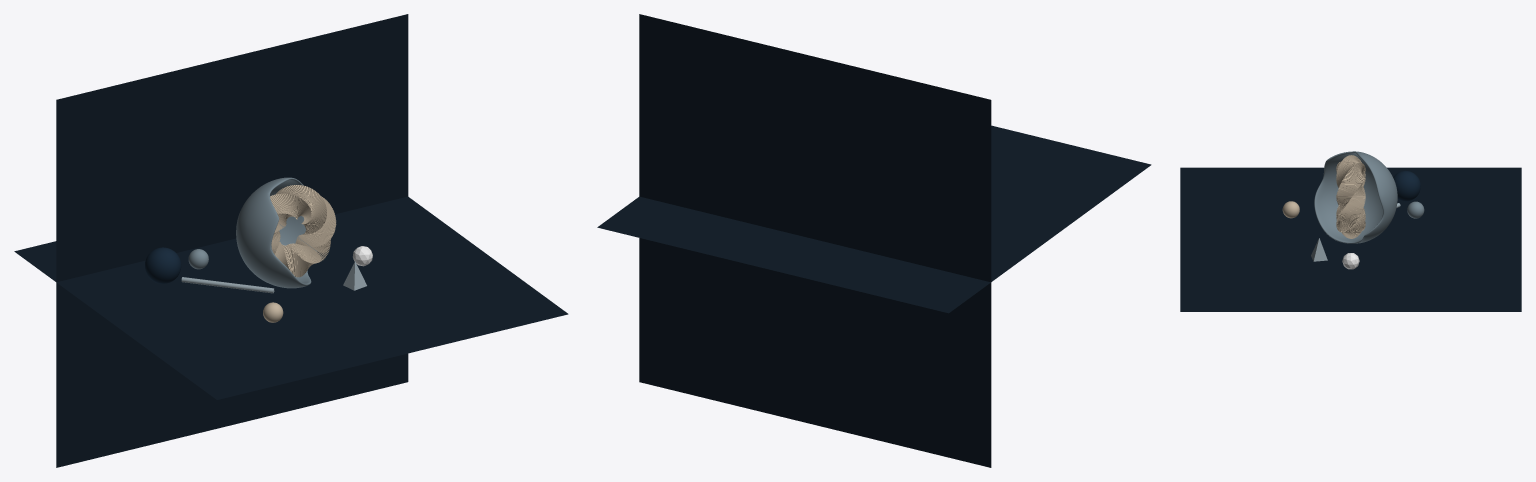
The model's file is muo35ju2-Abstract_Circle.fbx.
3 views of the same model, side by side, from view 1: azimuth 30°, elevation 25°; view 2: azimuth 150°, elevation 25°; view 3: azimuth 270°, elevation 25° (orthographic). The views are drawn at different scales.
Parts seen in each view (by area): view 1: Plane.001, Plane, Icosphere, Cube, Sphere; view 2: Plane.001, Plane; view 3: Plane, Icosphere, Cube, Sphere.
Boxes of the visible parts, x1,y1,x2,y2 form: Plane.001: (56, 14, 408, 467); Plane: (14, 196, 568, 399); Icosphere: (236, 177, 317, 288); Cube: (270, 185, 336, 277); Sphere: (145, 247, 181, 283); Plane.001: (639, 14, 991, 467); Plane: (597, 125, 1151, 313); Plane: (1180, 167, 1521, 311); Icosphere: (1314, 151, 1397, 243); Cube: (1336, 155, 1365, 238); Sphere: (1393, 171, 1420, 201).
Size of the model in its own units: 1600 by 1600 by 1600.
